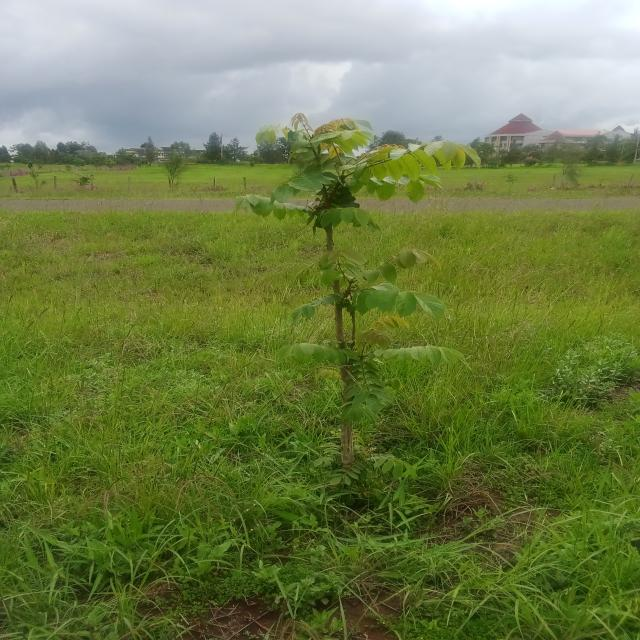Polyscias Kikuyensis: (241, 112, 481, 488)
